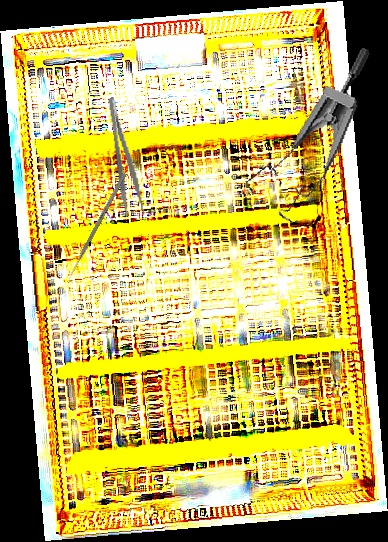Dressing Forceps: (105, 95, 146, 218)
Pusher: (66, 172, 127, 282)
Speculum: (239, 28, 372, 232)
